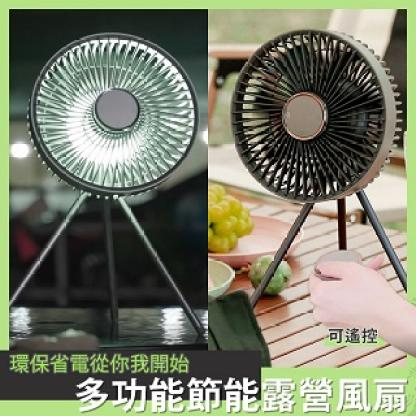fan: (17, 24, 210, 340), (225, 16, 412, 322)
